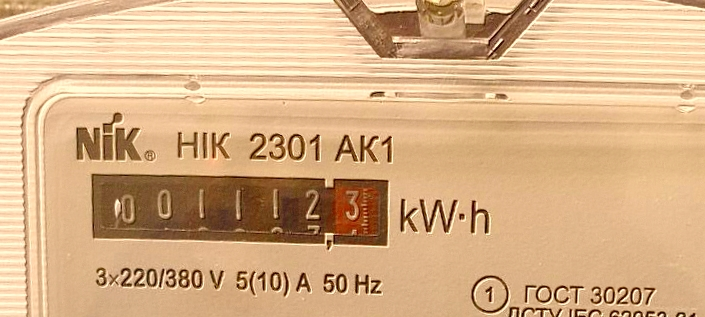0: (152, 185, 176, 224), (116, 190, 140, 226)
1: (191, 184, 211, 223), (229, 185, 245, 224), (267, 185, 283, 223)
2: (300, 187, 324, 224)
3: (341, 188, 361, 224)
screen: (81, 161, 398, 259)
